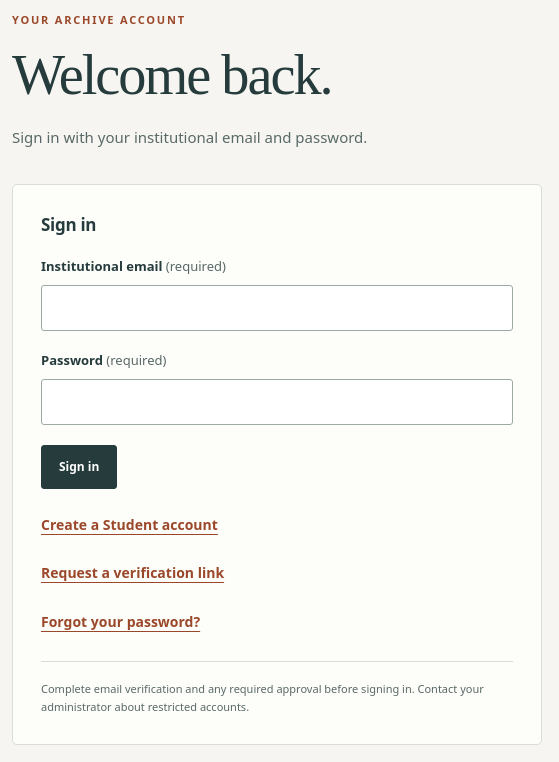
Test: account flow › bootstraps CSRF, logs in without browser storage, and confirms logout
This screenshot has width=559, height=762.
Type "member@iut.example" into the field labelled "Institutional email (required)" at (277, 308), box [41,285,513,331]
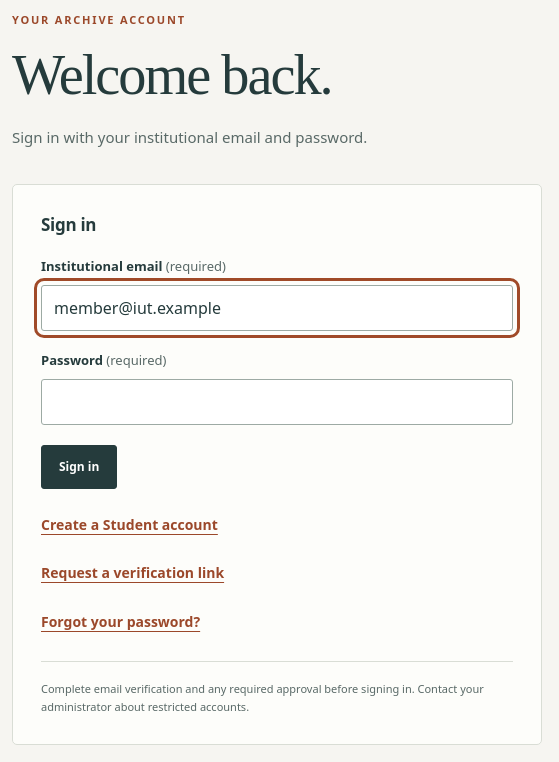
Type "synthetic-password" into the password field labelled "Password (required)" at (277, 402), box [41,379,513,425]
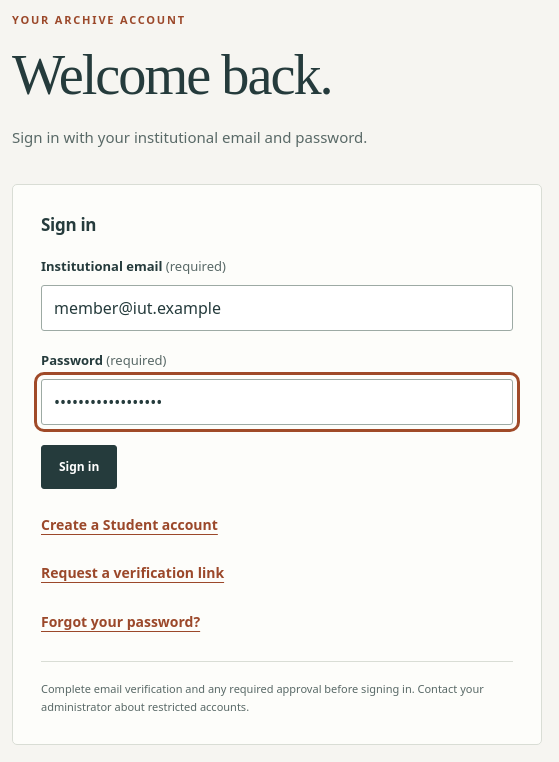
Click the button "Sign in" at (79, 467), box [41,445,117,489]
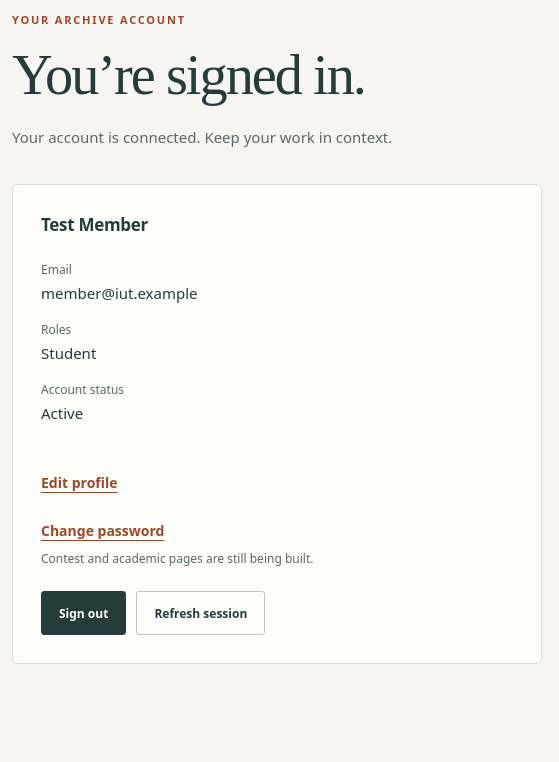
Now the heading "You’re signed in." is shown, box [12,44,365,106]
Now the text "member@iut.example" is shown, box [41,283,198,303]
Click the button "Sign out" at (84, 613), box [41,591,126,635]
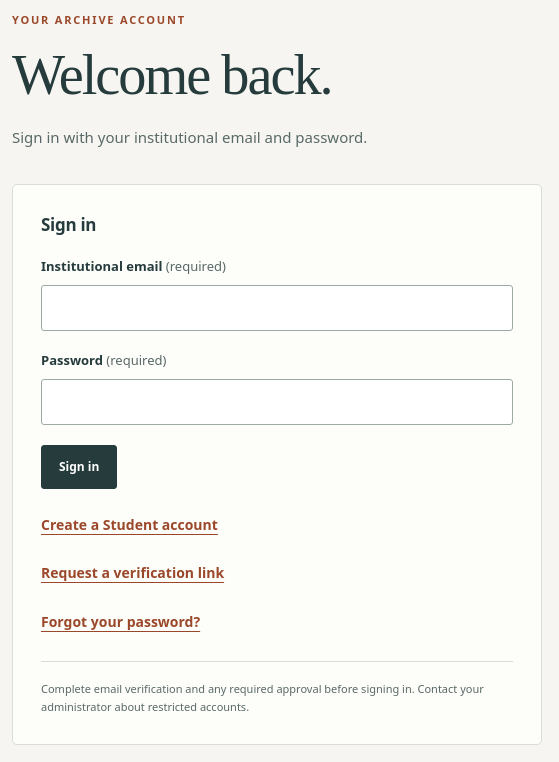
Now the button "Sign in" is shown, box [41,445,117,489]
Now the text "member@iut.example" is gone
